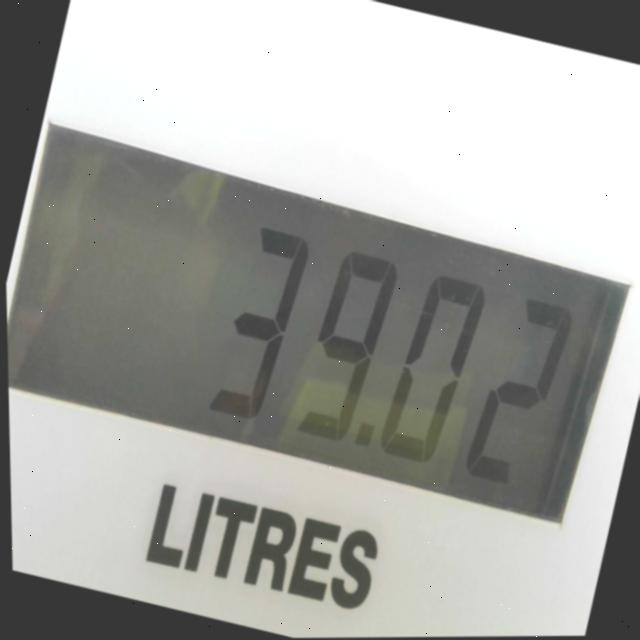.: (335, 410, 387, 478)
0: (361, 247, 502, 480)
2: (440, 264, 589, 519)
3: (181, 205, 339, 455)
9: (279, 226, 413, 453)
